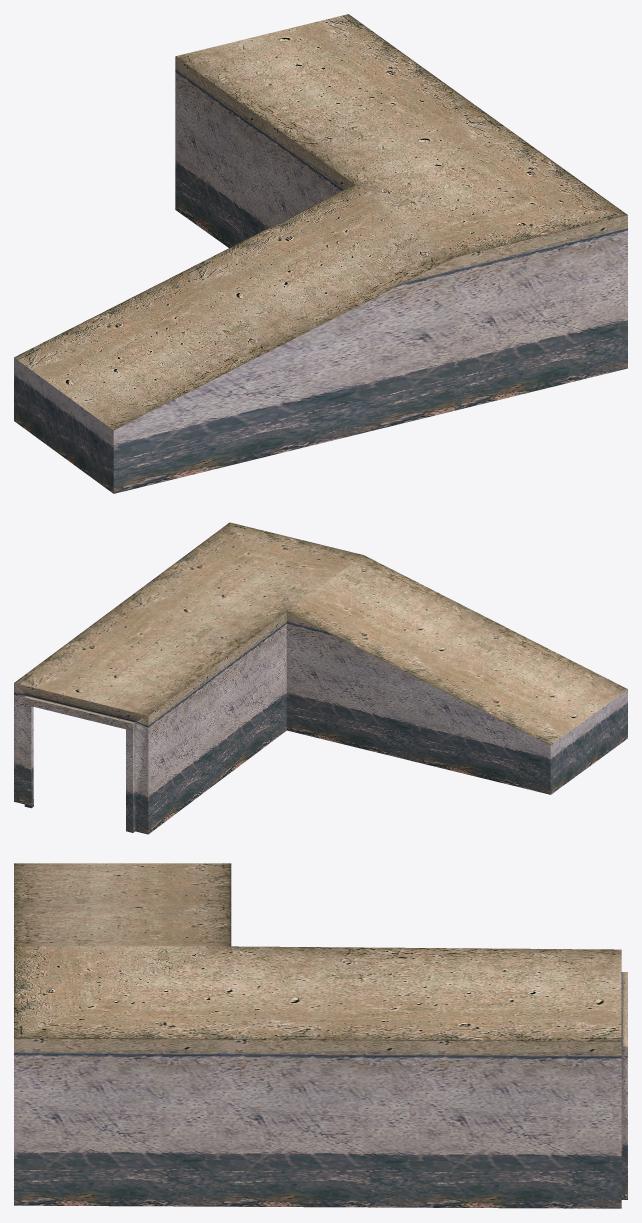
File: M11Sewer_EntranceTop1.glb
3 renders of one model, top to bottom at view 1: azimuth 30°, elevation 25°; view 2: azimuth 150°, elevation 25°; view 3: azimuth 270°, elevation 25°, orthographic. The views are drawn at different scales.
Parts seen in each view (by area): view 1: M11SEWER_ENTRANCETOP1; view 2: M11SEWER_ENTRANCETOP1; view 3: M11SEWER_ENTRANCETOP1.
Boxes of the visible parts, x1,y1,x2,y2 form: M11SEWER_ENTRANCETOP1: (14, 14, 627, 493); M11SEWER_ENTRANCETOP1: (14, 522, 627, 834); M11SEWER_ENTRANCETOP1: (14, 863, 627, 1208).
Bounding box in the file's own units: 7.74 × 2.25 × 7.35.
Materials: 2 (2 with a texture image).
